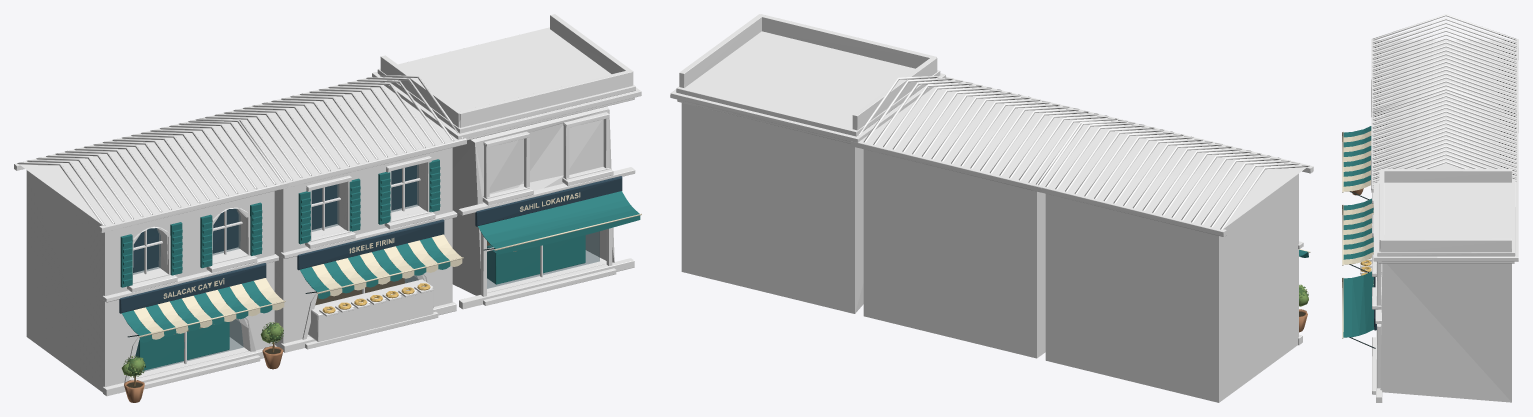
File: DistrictBlock_0_0_LOD1.glb
3 renders of one model, left to right at view 1: azimuth 30°, elevation 25°; view 2: azimuth 150°, elevation 25°; view 3: azimuth 270°, elevation 25°, orthographic. The views are drawn at different scales.
Parts seen in each view (by area): view 1: RK_DistrictBlock_0_0_LOD1_LC_Cream, RK_DistrictBlock_0_0_LOD1_LC_Tile, RK_DistrictBlock_0_0_LOD1_LC_Lime, RK_DistrictBlock_0_0_LOD1_LC_Teal, RK_DistrictBlock_0_0_LOD1_LC_Coral, RK_DistrictBlock_0_0_LOD1_LC_Ink, RK_DistrictBlock_0_0_LOD1_LC_Wood, RK_DistrictBlock_0_0_LOD1_LC_Canvas, RK_DistrictBlock_0_0_LOD1_LC_Glass, RK_DistrictBlock_0_0_LOD1_RK_Terracotta, RK_DistrictBlock_0_0_LOD1_RK_Leaf, RK_DistrictBlock_0_0_LOD1_LC_Gold; view 2: RK_DistrictBlock_0_0_LOD1_LC_Cream, RK_DistrictBlock_0_0_LOD1_LC_Coral, RK_DistrictBlock_0_0_LOD1_LC_Tile, RK_DistrictBlock_0_0_LOD1_LC_Lime, RK_DistrictBlock_0_0_LOD1_LC_Wood; view 3: RK_DistrictBlock_0_0_LOD1_LC_Coral, RK_DistrictBlock_0_0_LOD1_LC_Tile, RK_DistrictBlock_0_0_LOD1_LC_Lime, RK_DistrictBlock_0_0_LOD1_LC_Teal, RK_DistrictBlock_0_0_LOD1_LC_Canvas, RK_DistrictBlock_0_0_LOD1_LC_Wood.
Part boxes in pixels (box(x1,y1,x2,y2)): RK_DistrictBlock_0_0_LOD1_LC_Cream: box(26, 147, 452, 392); RK_DistrictBlock_0_0_LOD1_LC_Tile: box(17, 75, 463, 226); RK_DistrictBlock_0_0_LOD1_LC_Lime: box(102, 27, 641, 396); RK_DistrictBlock_0_0_LOD1_LC_Teal: box(120, 159, 640, 370); RK_DistrictBlock_0_0_LOD1_LC_Coral: box(380, 14, 633, 295); RK_DistrictBlock_0_0_LOD1_LC_Ink: box(119, 165, 622, 313); RK_DistrictBlock_0_0_LOD1_LC_Wood: box(14, 76, 604, 380); RK_DistrictBlock_0_0_LOD1_LC_Canvas: box(134, 192, 641, 339); RK_DistrictBlock_0_0_LOD1_LC_Glass: box(133, 164, 599, 371); RK_DistrictBlock_0_0_LOD1_RK_Terracotta: box(124, 346, 283, 402); RK_DistrictBlock_0_0_LOD1_RK_Leaf: box(121, 322, 283, 377); RK_DistrictBlock_0_0_LOD1_LC_Gold: box(322, 283, 430, 313); RK_DistrictBlock_0_0_LOD1_LC_Cream: box(863, 149, 1298, 402); RK_DistrictBlock_0_0_LOD1_LC_Coral: box(679, 14, 937, 313); RK_DistrictBlock_0_0_LOD1_LC_Tile: box(859, 76, 1309, 229); RK_DistrictBlock_0_0_LOD1_LC_Lime: box(670, 31, 1303, 345); RK_DistrictBlock_0_0_LOD1_LC_Wood: box(850, 77, 1313, 236); RK_DistrictBlock_0_0_LOD1_LC_Coral: box(1379, 169, 1511, 402); RK_DistrictBlock_0_0_LOD1_LC_Tile: box(1372, 14, 1516, 187); RK_DistrictBlock_0_0_LOD1_LC_Lime: box(1360, 180, 1518, 402); RK_DistrictBlock_0_0_LOD1_LC_Teal: box(1343, 126, 1374, 337); RK_DistrictBlock_0_0_LOD1_LC_Canvas: box(1342, 131, 1373, 338); RK_DistrictBlock_0_0_LOD1_LC_Wood: box(1371, 39, 1518, 267).
Size of the model in its own units: 19.16 by 6.89 by 6.45.
